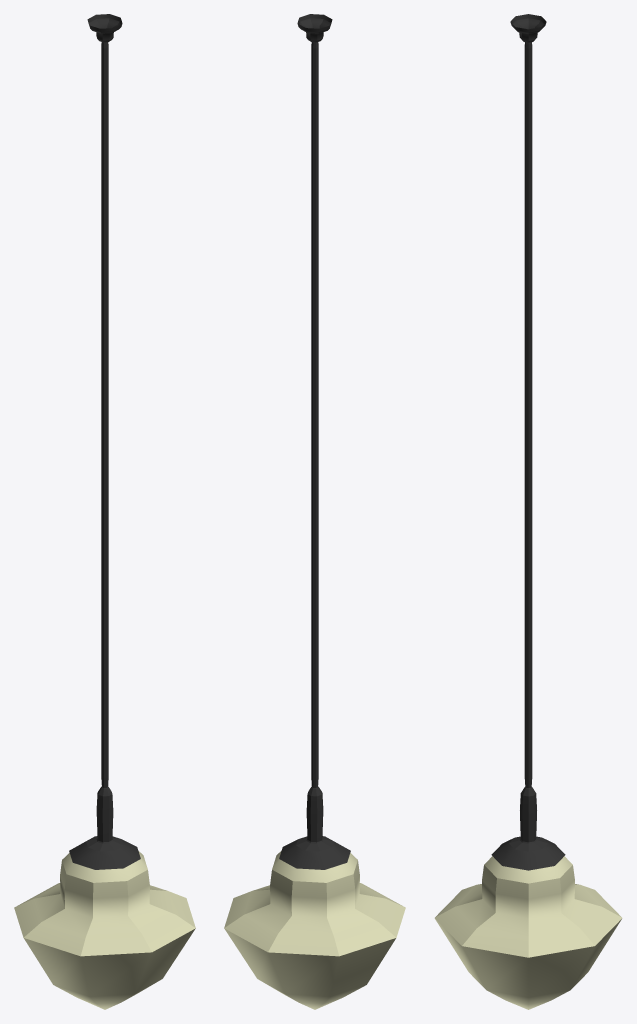
The model's file is sm_light_low.fbx.
The picture shows the model from 3 angles, left to right: view 1: azimuth 30°, elevation 25°; view 2: azimuth 150°, elevation 25°; view 3: azimuth 270°, elevation 25°; orthographic projection.
Visible parts, largest first — view 1: lightPost; view 2: lightPost; view 3: lightPost.
Boxes of the visible parts, x1=… form: lightPost: x1=14, y1=14, x2=195, y2=1009; lightPost: x1=224, y1=14, x2=405, y2=1009; lightPost: x1=434, y1=14, x2=622, y2=1009.
Size of the model in its own units: 297 by 1723 by 297.
